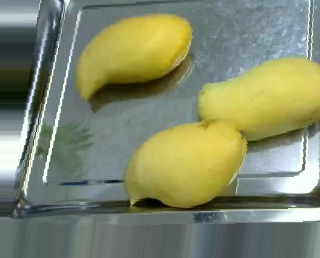Mango: (121, 118, 247, 210), (75, 14, 194, 104), (200, 56, 320, 144)
